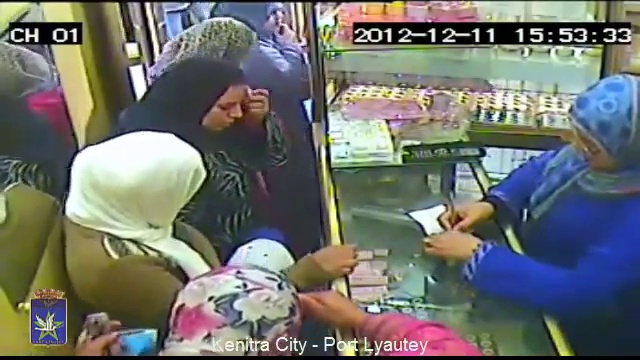face: (208, 89, 247, 131)
